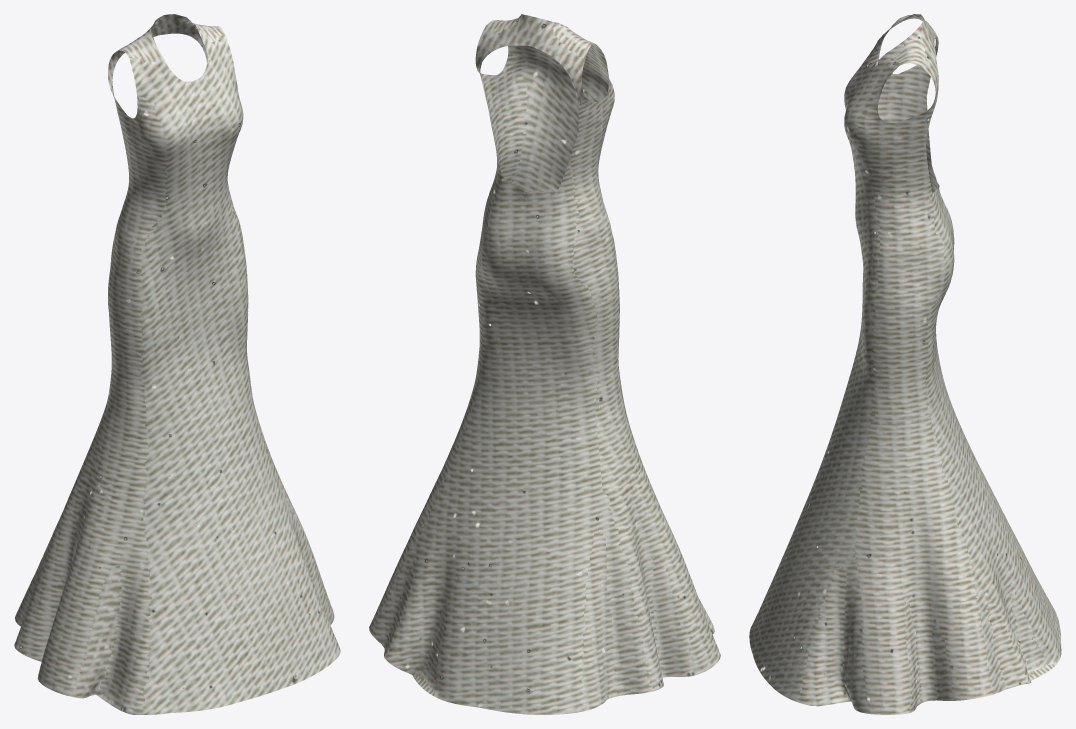
The model's file is vetement_2.glb.
3 renders of one model, left to right at view 1: azimuth 30°, elevation 25°; view 2: azimuth 150°, elevation 25°; view 3: azimuth 270°, elevation 25°, orthographic. The views are drawn at different scales.
Parts seen in each view (by area): view 1: Black_and_white_dress; view 2: Black_and_white_dress; view 3: Black_and_white_dress.
Part boxes in pixels (x1,y1,x2,y2): Black_and_white_dress: [14, 14, 340, 714]; Black_and_white_dress: [369, 14, 720, 714]; Black_and_white_dress: [749, 14, 1061, 714].
Size of the model in its own units: 4.56 by 9.2 by 4.13.
Materials: 1 (1 with a texture image).
